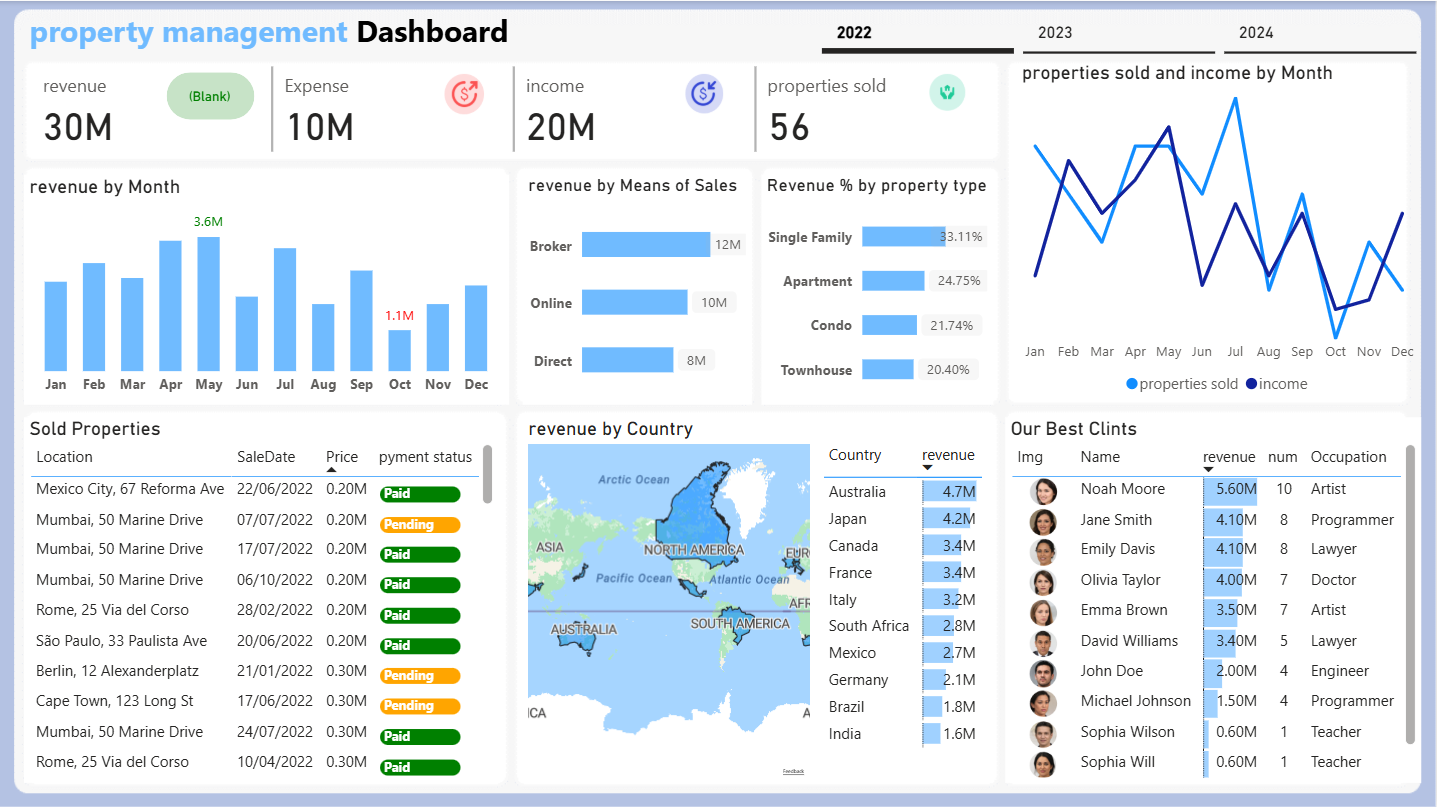

This screenshot's page, from the dashboard's own definition file:
{"tool":"powerbi","page":{"name":"Page 1","canvas":[1280,720],"ordinal":0},"visuals":[{"type":"card","fields":{"Values":["ALL Measures.revenue growth %"]},"box":[149.6,65.1,77.2,42.2],"z":0},{"type":"shape","box":[149.6,63.9,78.4,42.2],"z":1000},{"type":"columnChart","fields":{"Y":["ALL Measures.revenue"],"Category":["Calendar.Month"]},"box":[21.7,154.4,431.9,205.1],"z":2000},{"type":"clusteredBarChart","fields":{"Y":["ALL Measures.revenue"],"Category":["Sales_Table.Means of Sales"]},"box":[466.9,154.4,203.9,205.1],"z":3000},{"type":"clusteredBarChart","title":"Revenue % by property type","fields":{"Category":["Property_Table.Type"],"Y":["ALL Measures.% GT"]},"box":[679.2,154.4,206.3,205.1],"z":4000},{"type":"tableEx","title":"Sold Properties ","fields":{"Values":["Property_Table.Location","Sales_Table.SaleDate","Sum(Property_Table.Price)","ALL Measures.pyment status"]},"box":[21.7,370.4,422.3,325.7],"z":5000},{"type":"azureMap","fields":{"Category":["Property_Table.Country"]},"box":[466.9,370.4,260.6,325.7],"z":6000},{"type":"advancedSlicerVisual","fields":{"Values":["Calendar.Year"]},"box":[727.5,1.2,539.3,51.9],"z":7000},{"type":"cardVisual","fields":{"Data":["ALL Measures.revenue","ALL Measures.Expense","ALL Measures.income","ALL Measures.properties sold"]},"box":[21.7,53.1,863.8,86.9],"z":8000},{"type":"image","box":[589.3,60.3,78.4,44.6],"z":9000},{"type":"image","box":[375.2,60.3,78.4,45.8],"z":10000},{"type":"image","box":[803.5,60.3,82,42.2],"z":11000},{"type":"tableEx","fields":{"Values":["Property_Table.Country","ALL Measures.revenue"]},"box":[727.5,386.1,158,299.2],"z":12000},{"type":"tableEx","title":"Our Best Clints ","fields":{"Values":["Client_Table.Img","Client_Table.Name","ALL Measures.revenue","ALL Measures.properties sold","Client_Table.Occupation"]},"box":[896.4,370.4,370.4,325.7],"z":13000},{"type":"lineChart","fields":{"Y":["ALL Measures.properties sold"],"Category":["Calendar.Month"],"Y2":["ALL Measures.income"]},"box":[906,53.1,360.7,306.4],"z":14000},{"type":"textbox","box":[21.7,3.6,511.5,49.5],"z":14001}]}

Visuals, with their boxes in screenshot pixels (x1, y1, x2, y2), scaled from the page's 1280x720 canvas onto the 1437x807 screenshot:
card - ALL Measures.revenue growth %: {"x1": 168, "y1": 73, "x2": 255, "y2": 120}
shape: {"x1": 168, "y1": 72, "x2": 256, "y2": 119}
columnChart - ALL Measures.revenue x Calendar.Month: {"x1": 24, "y1": 173, "x2": 509, "y2": 403}
clusteredBarChart - ALL Measures.revenue x Sales_Table.Means of Sales: {"x1": 524, "y1": 173, "x2": 753, "y2": 403}
"Revenue % by property type" clusteredBarChart: {"x1": 763, "y1": 173, "x2": 994, "y2": 403}
"Sold Properties " tableEx: {"x1": 24, "y1": 415, "x2": 498, "y2": 780}
azureMap - Property_Table.Country: {"x1": 524, "y1": 415, "x2": 817, "y2": 780}
advancedSlicerVisual - Calendar.Year: {"x1": 817, "y1": 1, "x2": 1422, "y2": 60}
cardVisual - ALL Measures.revenue x ALL Measures.Expense: {"x1": 24, "y1": 60, "x2": 994, "y2": 157}
image: {"x1": 662, "y1": 68, "x2": 750, "y2": 118}
image: {"x1": 421, "y1": 68, "x2": 509, "y2": 119}
image: {"x1": 902, "y1": 68, "x2": 994, "y2": 115}
tableEx - Property_Table.Country x ALL Measures.revenue: {"x1": 817, "y1": 433, "x2": 994, "y2": 768}
"Our Best Clints " tableEx: {"x1": 1006, "y1": 415, "x2": 1422, "y2": 780}
lineChart - ALL Measures.properties sold x Calendar.Month: {"x1": 1017, "y1": 60, "x2": 1422, "y2": 403}
textbox: {"x1": 24, "y1": 4, "x2": 599, "y2": 60}
